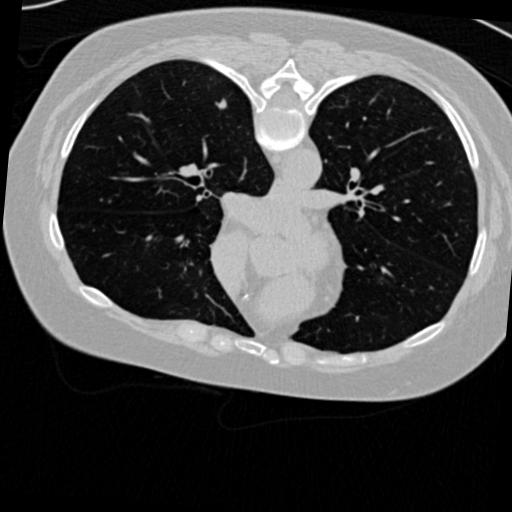nodule: (214, 98, 229, 113)
